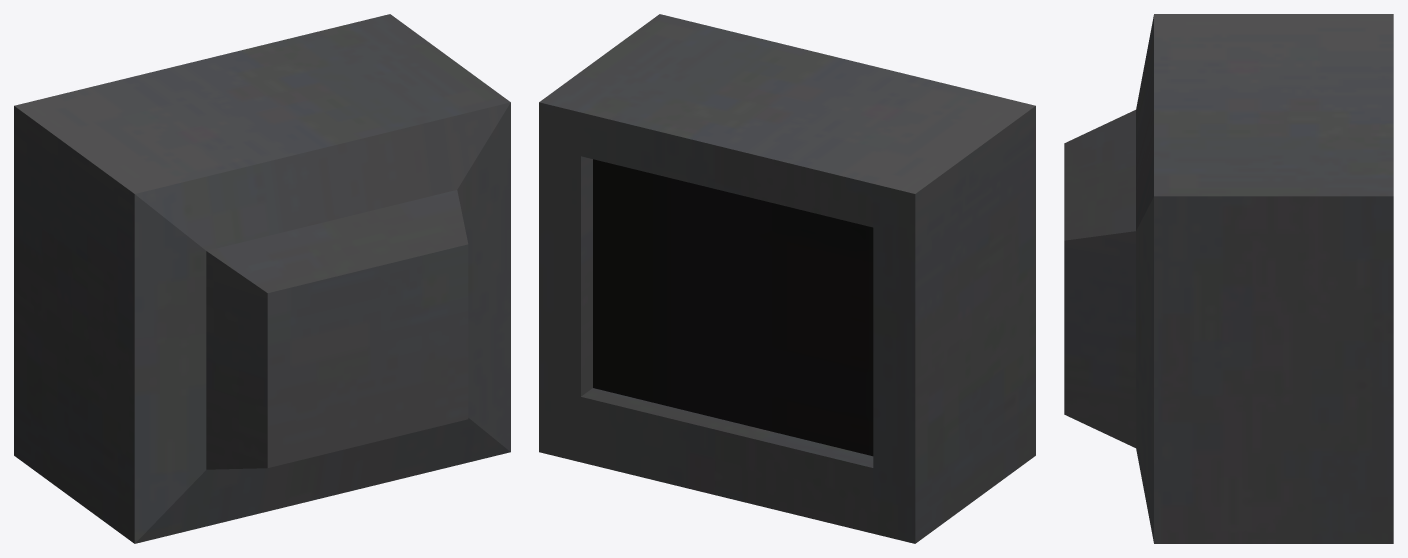
The picture shows the model from 3 angles, left to right: view 1: azimuth 30°, elevation 25°; view 2: azimuth 150°, elevation 25°; view 3: azimuth 270°, elevation 25°; orthographic projection.
Visible parts, largest first — view 1: tv.001; view 2: tv.001; view 3: tv.001.
Boxes of the visible parts, box(x1,y1,x2,y2) form: tv.001: box(14, 14, 510, 543); tv.001: box(539, 14, 1035, 543); tv.001: box(1064, 14, 1393, 543).
Bounding box in the file's own units: 0.7981 × 0.7094 × 0.6097.
1 material, 1 textured.
